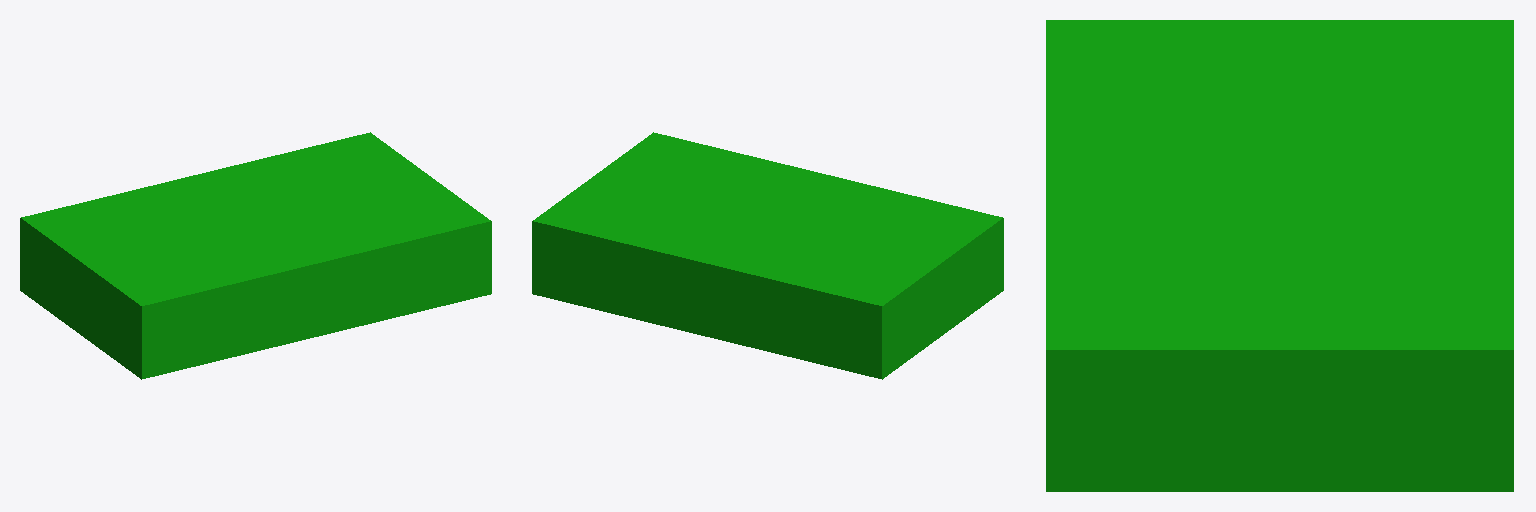
The robot description file, URDF, robot "block_2":
<?xml version="1.0"?>
<robot name="block_2">
  <link name="block_2_base_link">
    <contact>
      <lateral_friction value="1.0"/>
      <spinning_friction value=".001"/>
    </contact>
    <inertial>
      <origin rpy="0 0 0" xyz="0 0 0"/>
      <mass value="0.02"/>
      <inertia ixx="1" ixy="0" ixz="0" iyy="1" iyz="0" izz="1"/>
    </inertial>
    <visual>
      <origin rpy="0 0 0" xyz="0.0 0.0 0.0"/>
      <geometry>
        <box size="1.00 0.6 0.2"/>
      </geometry>
      <material name="blockmat">
        <color rgba="0.1 0.7 0.1 1"/>
      </material>
    </visual>
    <collision>
      <origin rpy="0 0 0" xyz="0.0 0.0 0.0"/>
      <geometry>
        <box size="1.00 0.6 0.2"/>
      </geometry>
    </collision>
  </link>
</robot>

--- What the picture shows (computed from the rendered views, not written in the file) ---
The picture shows the robot from 3 angles, left to right: view 1: azimuth 30°, elevation 25°; view 2: azimuth 150°, elevation 25°; view 3: azimuth 270°, elevation 25°; orthographic projection.
Model block_2 with 1 links and 0 joints (none), rooted at block_2_base_link, posed all joints at 0.
Visible links, largest first — view 1: block_2_base_link; view 2: block_2_base_link; view 3: block_2_base_link.
Link boxes in pixels (<box>): block_2_base_link: <box>20,132,491,379</box>; block_2_base_link: <box>532,132,1003,379</box>; block_2_base_link: <box>1046,20,1513,491</box>.
Size in the robot's own frame: 1 by 0.6 by 0.2 metres.
Geometry: primitives only (box / cylinder / sphere), no mesh files.